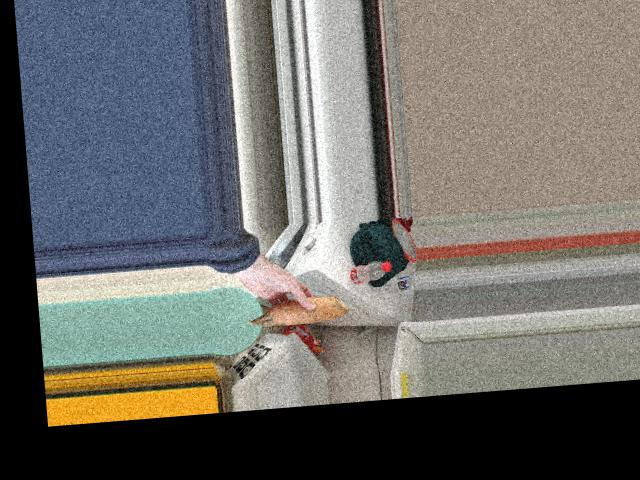sweet_potato: (246, 289, 343, 330)
